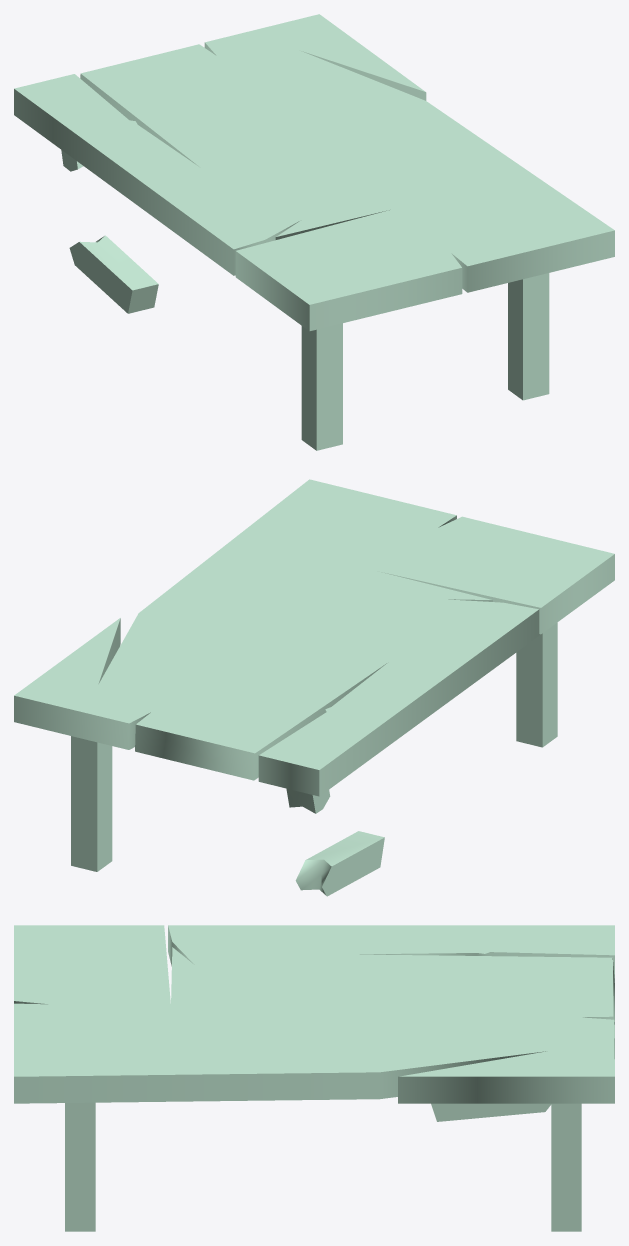
Rendered from mesa.glb.
The picture shows the model from 3 angles, top to bottom: view 1: azimuth 30°, elevation 25°; view 2: azimuth 150°, elevation 25°; view 3: azimuth 270°, elevation 25°; orthographic projection.
Visible parts, largest first — view 1: Box001; view 2: Box001; view 3: Box001.
Part boxes in pixels (bbox=[...]): Box001: bbox=[14, 14, 614, 450]; Box001: bbox=[14, 479, 614, 896]; Box001: bbox=[14, 925, 614, 1231].
Bounding box in the file's own units: 0.2832 × 0.1525 × 0.4744.
